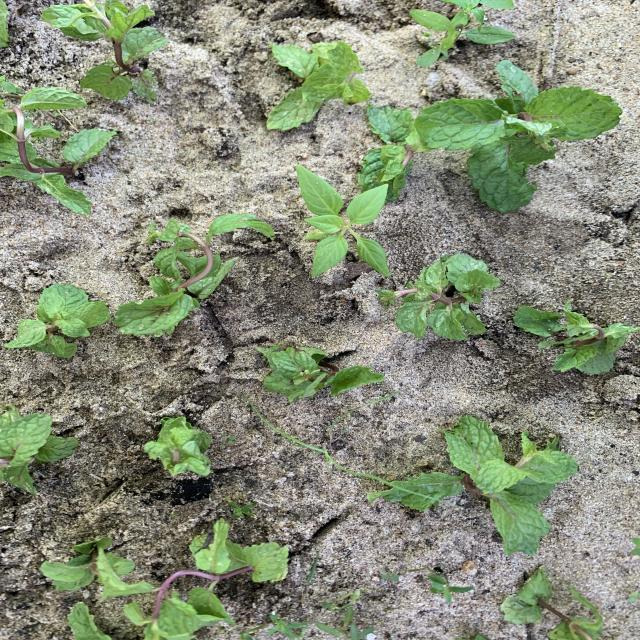crop: (415, 60, 622, 213), (367, 416, 577, 554), (125, 519, 288, 640), (114, 214, 274, 336), (2, 86, 115, 214), (45, 2, 167, 99), (377, 254, 500, 341), (513, 304, 640, 374), (267, 42, 369, 129), (5, 284, 110, 357), (502, 567, 602, 639), (357, 104, 425, 202), (261, 347, 383, 401), (42, 537, 145, 599), (1, 411, 78, 493), (145, 417, 211, 475), (1, 1, 6, 47)
weed: (255, 406, 401, 487), (299, 166, 390, 275), (412, 2, 513, 65), (315, 607, 374, 639), (428, 571, 472, 602), (268, 613, 304, 639), (228, 501, 255, 518), (307, 552, 319, 582), (1, 78, 22, 93), (1, 405, 19, 421), (382, 573, 399, 581), (222, 435, 235, 445), (628, 591, 639, 601)
